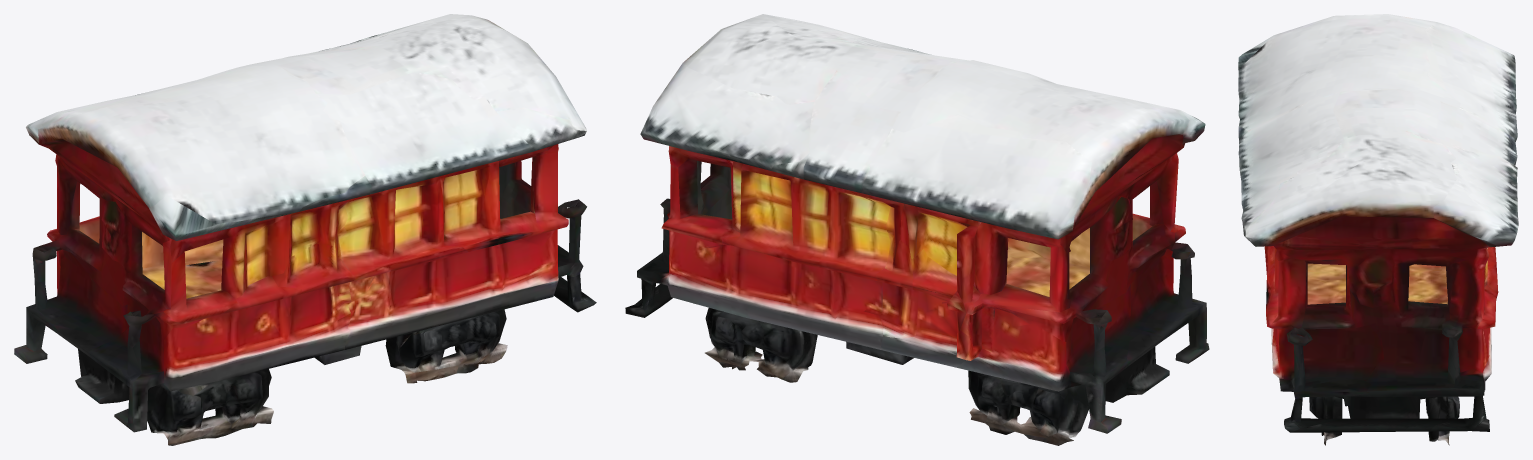
Rendered from dio_coach_red.glb.
3 renders of one model, left to right at view 1: azimuth 30°, elevation 25°; view 2: azimuth 150°, elevation 25°; view 3: azimuth 270°, elevation 25°, orthographic. The views are drawn at different scales.
Visible parts, largest first — view 1: tripo_part_2, tripo_part_15, tripo_part_21, tripo_part_28; view 2: tripo_part_2, tripo_part_16, tripo_part_23, tripo_part_28; view 3: tripo_part_2, tripo_part_28, tripo_part_23, tripo_part_21.
Part boxes in pixels (x1,y1,x2,y2): tripo_part_2: (14,14,586,432); tripo_part_15: (147,369,273,445); tripo_part_21: (385,309,507,383); tripo_part_28: (554,274,596,312); tripo_part_2: (637,14,1209,433); tripo_part_16: (968,370,1088,445); tripo_part_23: (705,308,817,382); tripo_part_28: (625,279,672,317); tripo_part_2: (1238,14,1518,418); tripo_part_28: (1284,396,1489,432); tripo_part_23: (1425,396,1459,445); tripo_part_21: (1309,396,1342,445).
Size of the model in its own units: 0.2616 by 0.1628 by 0.1462.
Materials: 6 (6 with a texture image).
